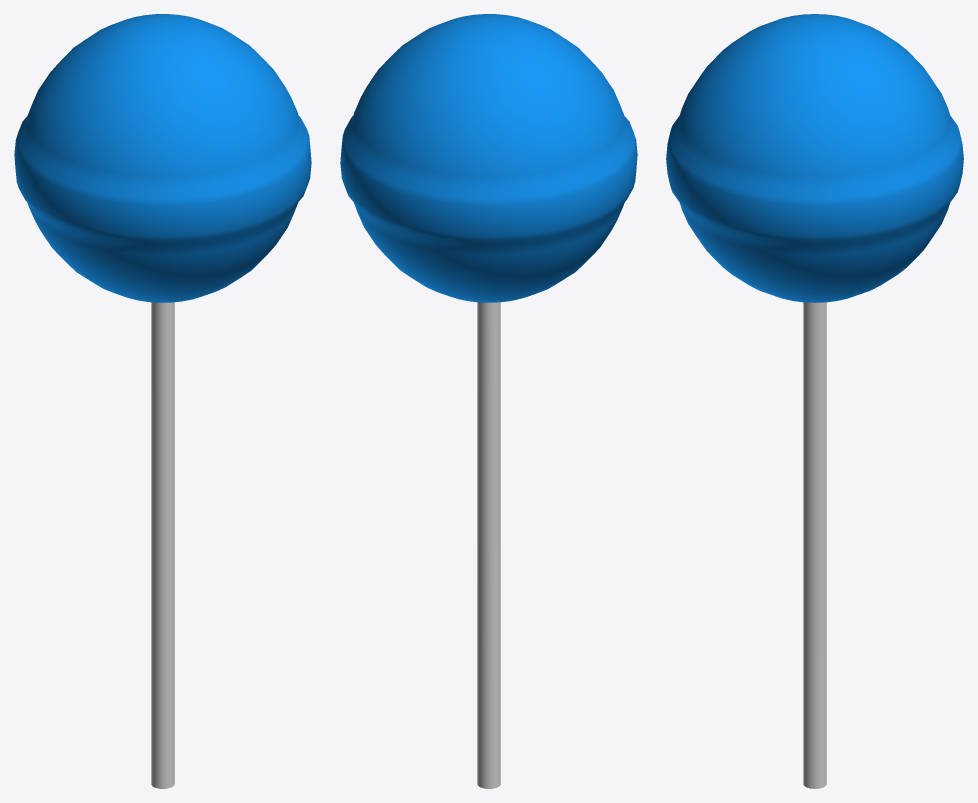
File: LolipopBlue.fbx
3 views of the same model, side by side, from view 1: azimuth 30°, elevation 25°; view 2: azimuth 150°, elevation 25°; view 3: azimuth 270°, elevation 25° (orthographic).
Visible parts, largest first — view 1: Head, Stick; view 2: Head, Stick; view 3: Head, Stick.
Part boxes in pixels (x1,y1,x2,y2): Head: (14, 14, 311, 302); Stick: (151, 302, 174, 788); Head: (340, 14, 637, 302); Stick: (477, 302, 500, 788); Head: (666, 14, 963, 302); Stick: (803, 302, 826, 788).
Bounding box in the file's own units: 3.01 × 8.45 × 3.01.
